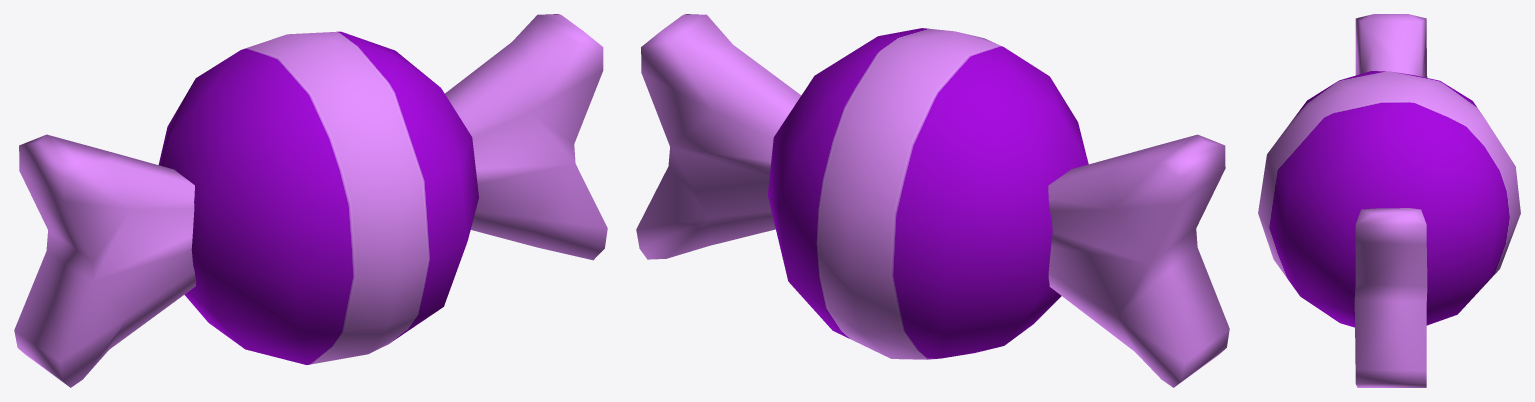
Rendered from purple_candy.glb.
The picture shows the model from 3 angles, left to right: view 1: azimuth 30°, elevation 25°; view 2: azimuth 150°, elevation 25°; view 3: azimuth 270°, elevation 25°; orthographic projection. The views are drawn at different scales.
Visible parts, largest first — view 1: Purple_Candy; view 2: Purple_Candy; view 3: Purple_Candy.
Boxes of the visible parts, x1=… form: Purple_Candy: x1=14, y1=14, x2=607, y2=387; Purple_Candy: x1=636, y1=14, x2=1229, y2=387; Purple_Candy: x1=1258, y1=14, x2=1520, y2=387.
Bounding box in the file's own units: 0.6302 × 0.3327 × 0.3333.
1 material, 1 textured.
